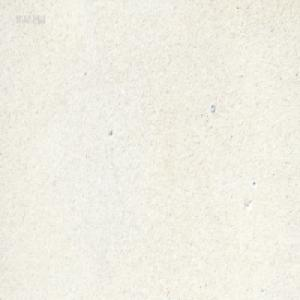Washer: (209, 102, 215, 113)
